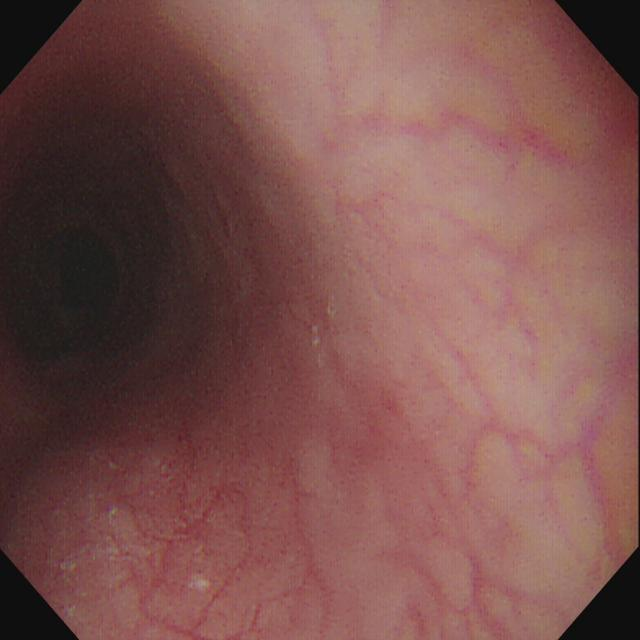A: (153, 435, 248, 546)
E: (38, 200, 130, 322)
